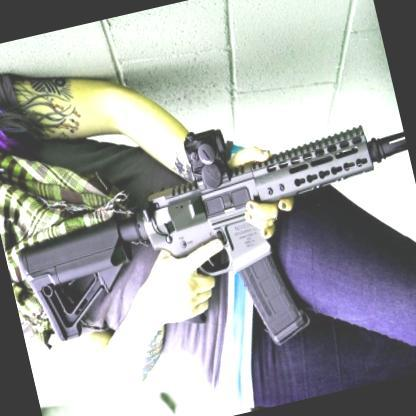rifle: (15, 109, 416, 372)
